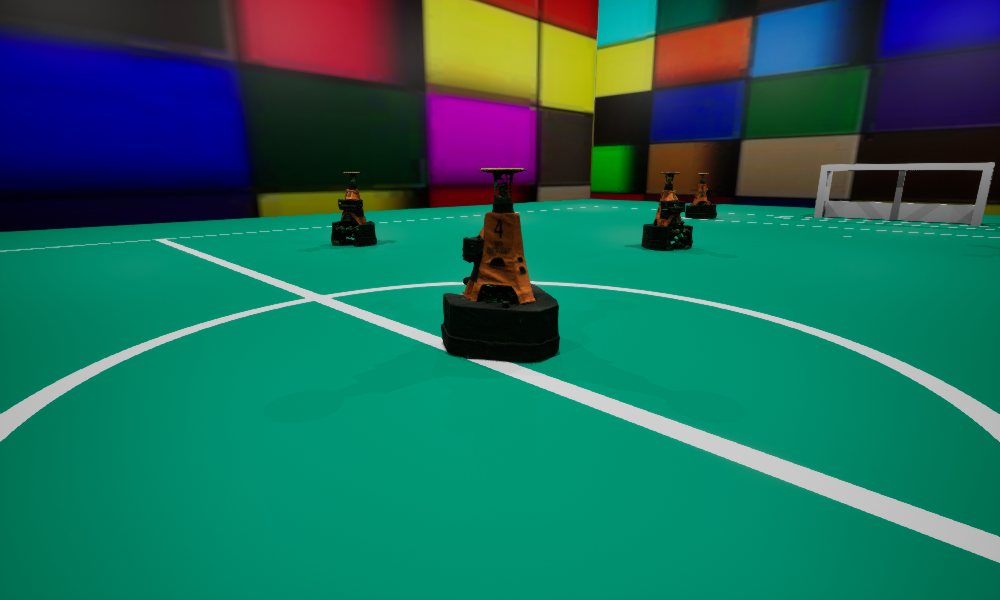o: (441, 167, 559, 362), (641, 172, 692, 250), (331, 172, 376, 245), (685, 173, 716, 218)
